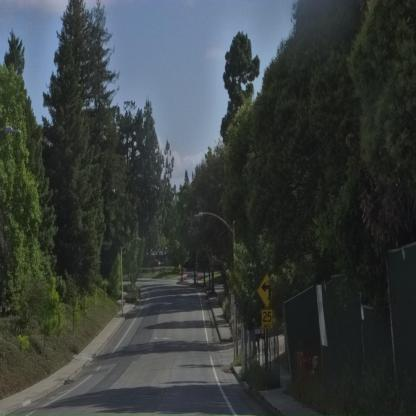sign: (258, 268, 274, 326)
